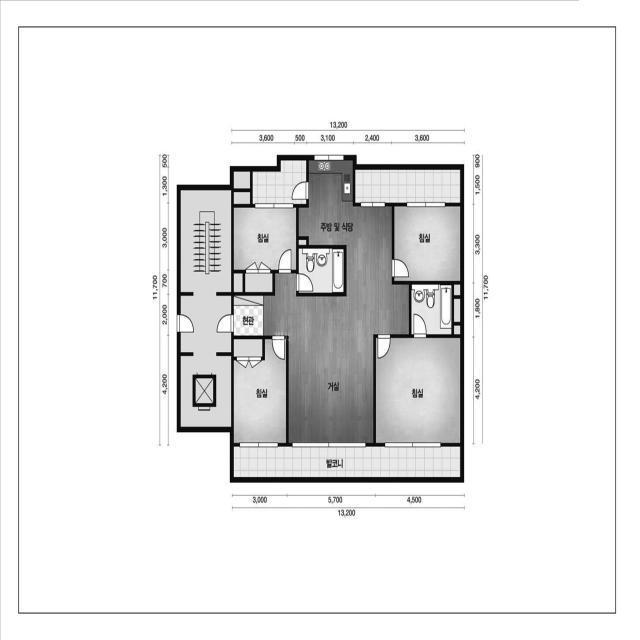space_balconi: (234, 446, 461, 477), (355, 169, 460, 203), (252, 160, 306, 204)
space_bedroom: (376, 338, 460, 443), (233, 339, 286, 443), (234, 207, 296, 292), (394, 206, 460, 281)
space_elevator: (180, 356, 231, 427)
space_elevator_hall: (180, 295, 231, 353)
space_front: (233, 295, 263, 336)
space_kitchen: (299, 160, 353, 245)
space_living_room: (264, 206, 409, 443)
space_other: (234, 171, 250, 189), (234, 192, 250, 204), (234, 273, 243, 292), (454, 299, 460, 322), (454, 284, 460, 295), (454, 325, 460, 335), (298, 240, 306, 245)
space_staircase: (180, 190, 232, 293)
space_toilet: (411, 284, 452, 335), (298, 248, 344, 293)
